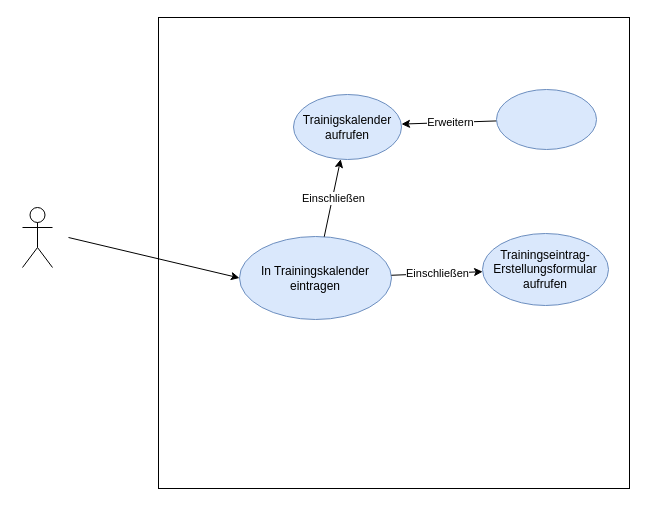
The diagram is 647 pixels wide and 506 high, and some of its shapes have lost their labels. The shapes that lost their labels are listed below. From the top down, each one's centre as x and y in pixels, then its label:
At (546,119): "Einloggen".
At (37,237): "Mitglied".
